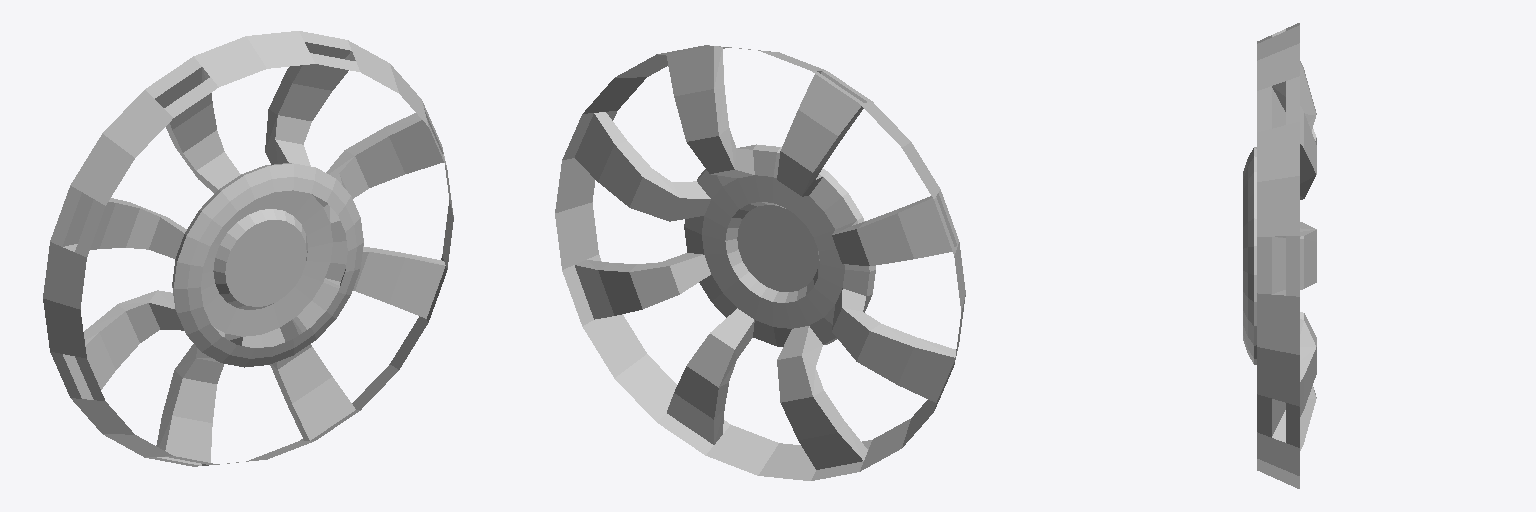
The model's file is Wheel.obj.
The picture shows the model from 3 angles: view 1: azimuth 30°, elevation 25°; view 2: azimuth 150°, elevation 25°; view 3: azimuth 270°, elevation 25°; orthographic projection.
Visible parts, largest first — view 1: default; view 2: default; view 3: default.
Boxes of the visible parts, x1,y1,x2,y2 form: default: [43, 31, 453, 466]; default: [555, 45, 965, 480]; default: [1243, 23, 1316, 488].
Bounding box in the file's own units: 2 × 2 × 0.3119.